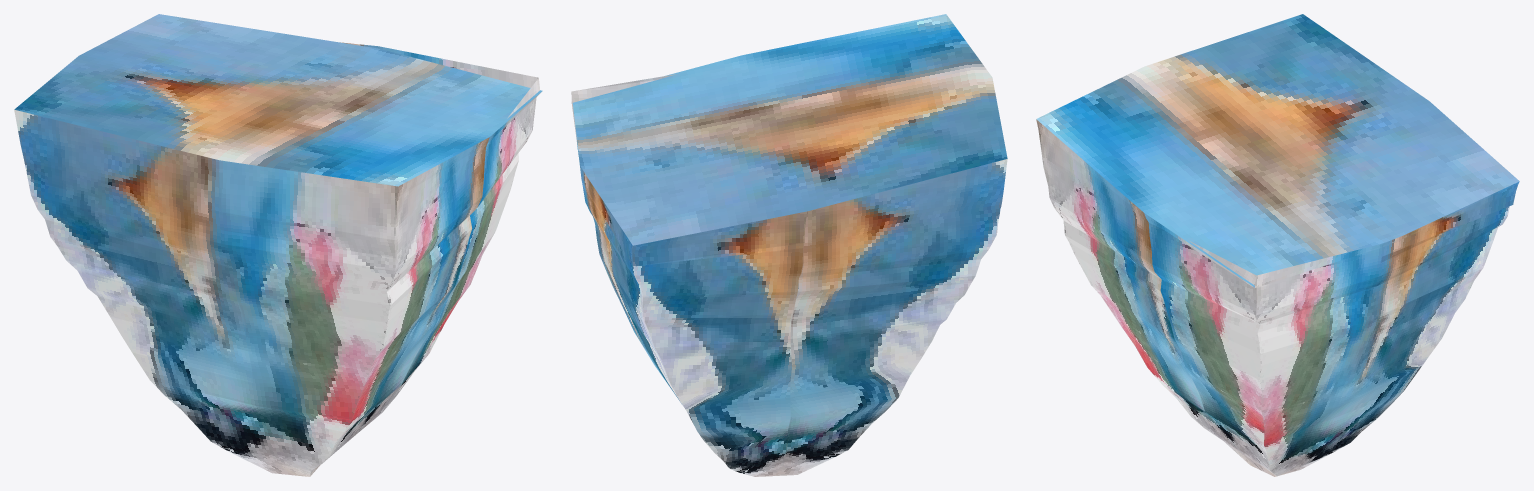
The picture shows the model from 3 angles, left to right: view 1: azimuth 30°, elevation 25°; view 2: azimuth 150°, elevation 25°; view 3: azimuth 270°, elevation 25°; orthographic projection. The views are drawn at different scales.
Parts seen in each view (by area): view 1: SPLICE_1.003; view 2: SPLICE_1.003; view 3: SPLICE_1.003.
Boxes of the visible parts, x1=… form: SPLICE_1.003: x1=14, y1=14, x2=542, y2=476; SPLICE_1.003: x1=571, y1=14, x2=1007, y2=476; SPLICE_1.003: x1=1036, y1=14, x2=1519, y2=476.
Bounding box in the file's own units: 2.1 × 1.65 × 2.1.
Materials: 1 (1 with a texture image).
